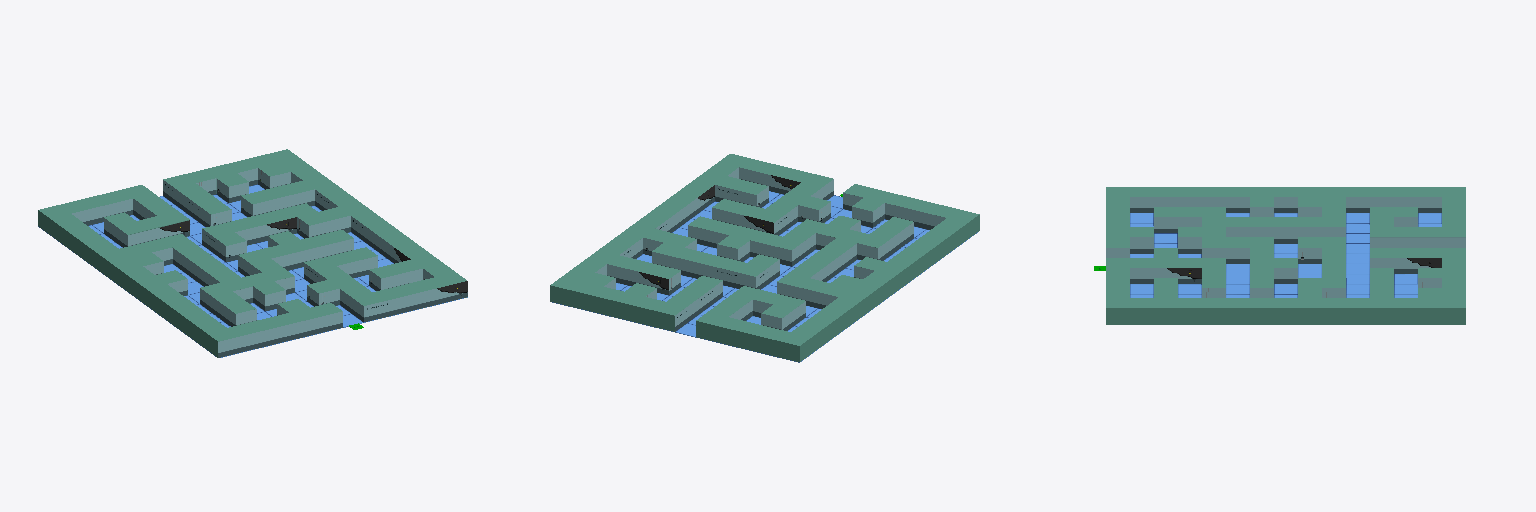
3 views of the same model, side by side, from view 1: azimuth 30°, elevation 25°; view 2: azimuth 150°, elevation 25°; view 3: azimuth 270°, elevation 25° (orthographic).
Parts seen in each view (by area): view 1: maZE:maZE:pCube88; view 2: maZE:maZE:pCube88; view 3: maZE:maZE:pCube88.
Part boxes in pixels (left/top/right/bottom): maZE:maZE:pCube88: left=38, top=149, right=467, bottom=357; maZE:maZE:pCube88: left=550, top=154, right=979, bottom=362; maZE:maZE:pCube88: left=1094, top=187, right=1465, bottom=324.
Size of the model in its own units: 576 by 37 by 744.
2 materials, 1 textured.